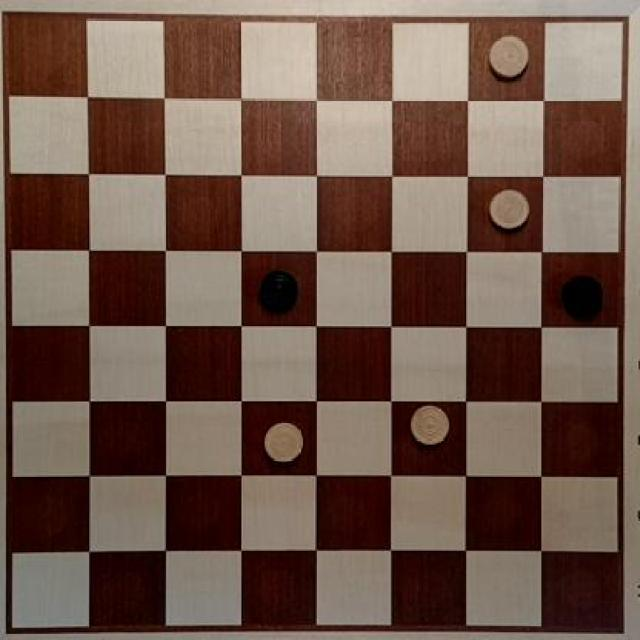BOARD: (2, 11, 624, 631)
black: (555, 267, 612, 328), (251, 268, 306, 317)
white: (255, 416, 314, 472), (482, 183, 532, 235), (484, 33, 533, 83), (406, 401, 454, 451)
